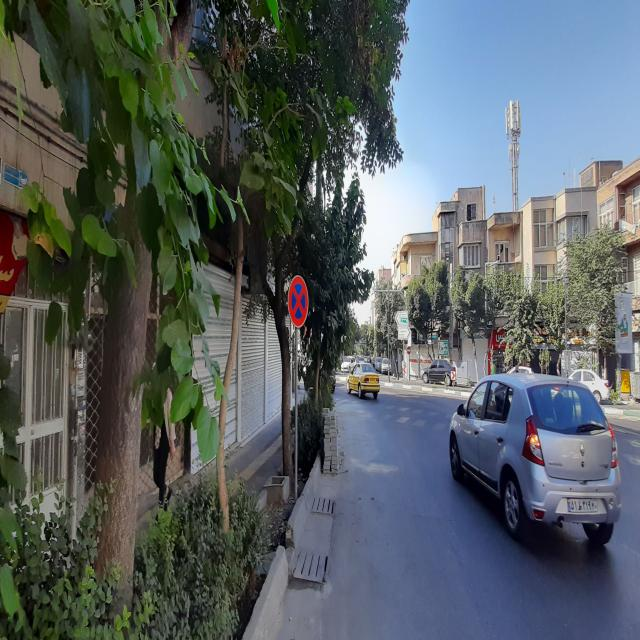no stopping: (290, 277, 308, 327)
